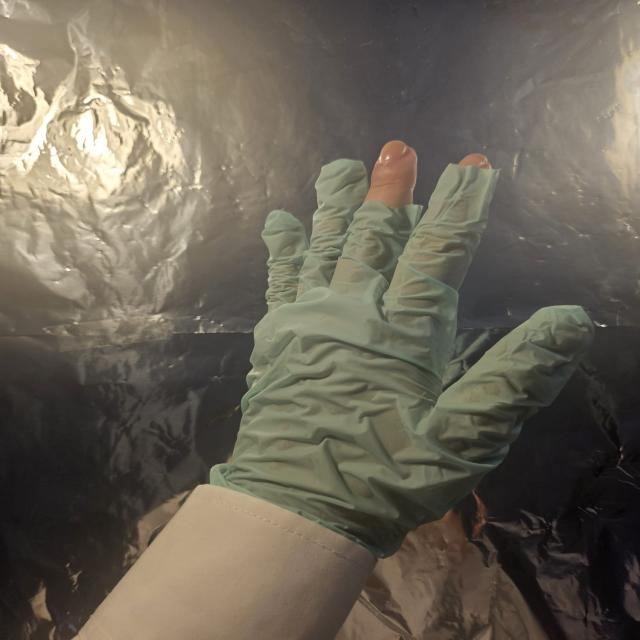gloves_damaged: (211, 138, 600, 554)
